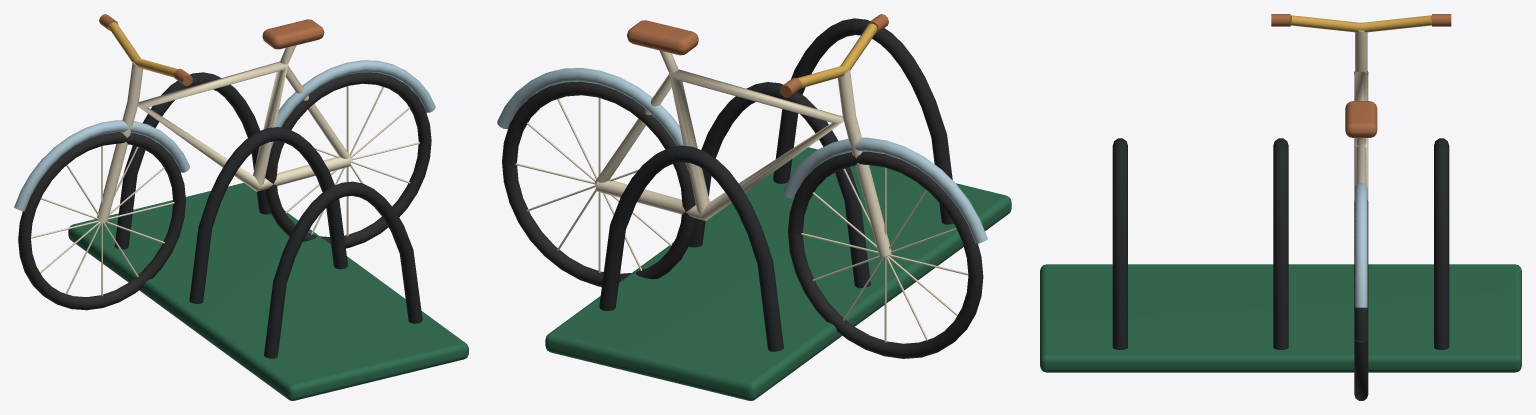
The model's file is street_bikerack.glb.
3 views of the same model, side by side, from view 1: azimuth 30°, elevation 25°; view 2: azimuth 150°, elevation 25°; view 3: azimuth 270°, elevation 25° (orthographic). The views are drawn at different scales.
Visible parts, largest first — view 1: Slab, FrontTyre, RearTyre, Hoop0, Hoop1, Frame, Hoop2, FrontFender, RearFender, Fork, Saddle, SeatStay (+1 smaller); view 2: Slab, FrontTyre, RearTyre, Hoop2, Frame, Hoop0, Hoop1, FrontFender, RearFender, Fork, Saddle, SeatStay (+1 smaller); view 3: Slab, Hoop1, Hoop0, Hoop2, RearTyre, RearFender, Bars, Saddle, Frame, Fork, SeatStay.
Part boxes in pixels (x1,y1,x2,y2): Slab: (68,183,468,400); FrontTyre: (18,132,185,310); RearTyre: (264,72,431,248); Hoop0: (264,181,422,358); Hoop1: (189,127,347,303); Frame: (138,61,350,191); Hoop2: (114,72,270,249); FrontFender: (14,120,189,211); RearFender: (271,60,435,148); Fork: (96,62,143,222); Saddle: (262,19,324,49); SeatStay: (280,45,351,160); Slab: (545,147,1011,400); FrontTyre: (788,151,983,358); RearTyre: (502,81,696,286); Hoop2: (599,145,783,351); Frame: (596,69,843,220); Hoop0: (773,18,953,224); Hoop1: (689,82,870,288); FrontFender: (783,137,987,243); RearFender: (497,68,689,172); Fork: (837,70,891,256); Saddle: (627,20,698,55); SeatStay: (595,50,678,185); Slab: (1040,264,1521,372); Hoop1: (1273,138,1288,349); Hoop0: (1112,138,1127,349); Hoop2: (1434,138,1449,349); RearTyre: (1354,200,1368,400); RearFender: (1355,183,1367,307); Bars: (1290,15,1431,32); Saddle: (1345,101,1377,137); Frame: (1354,71,1368,200); Fork: (1355,30,1367,73); SeatStay: (1356,138,1366,185).
Size of the model in its own units: 1.62 by 0.9299 by 1.5.
